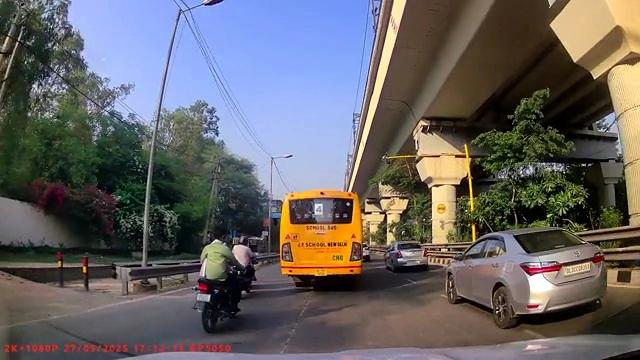motorcycle_without_helmet: (196, 224, 242, 332)
